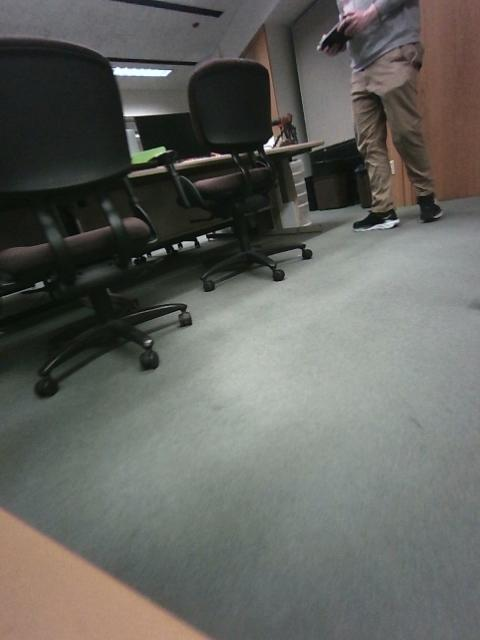block: (149, 311, 180, 341)
